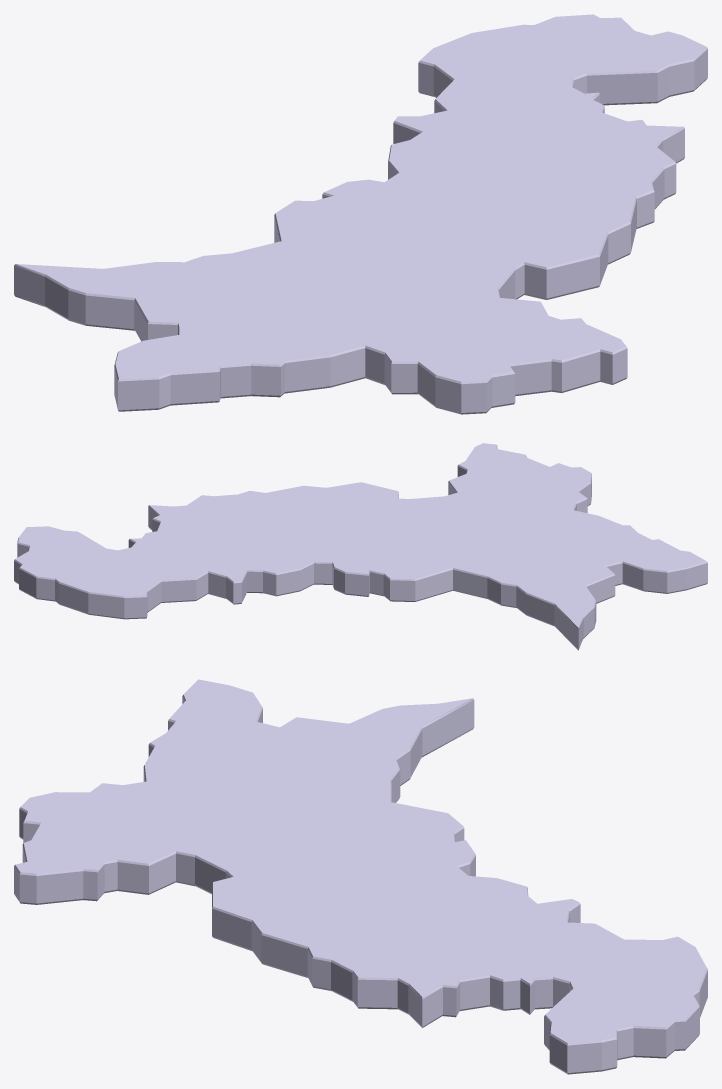
File: PAK.glb
The picture shows the model from 3 angles, top to bottom: view 1: azimuth 30°, elevation 25°; view 2: azimuth 150°, elevation 25°; view 3: azimuth 270°, elevation 25°; orthographic projection. The views are drawn at different scales.
Bounding box in the file's own units: 1.7 × 0.068 × 1.37.
